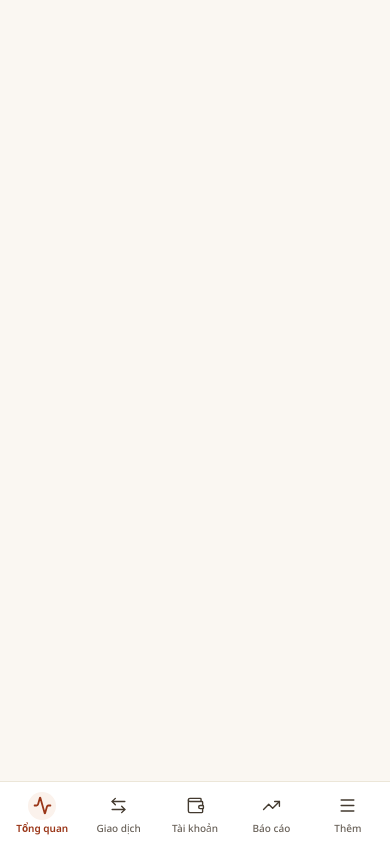
Scenario: MobileBottomNav component › opens drawer sheet when clicking "Thêm"
Step 1. Click the button with aria-label "Mở menu chức năng mở rộng" → (348, 813), box [310,788,386,838]
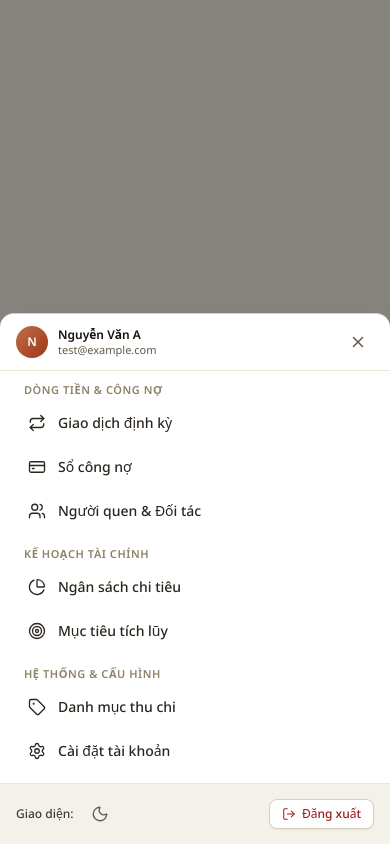
Now the dialog named "Danh mục chức năng mở rộng" is shown
Now the text "Dòng tiền & Công nợ" is shown, box [24,382,163,397]
Now the link "Sổ công nợ" is shown, box [28,457,132,476]
